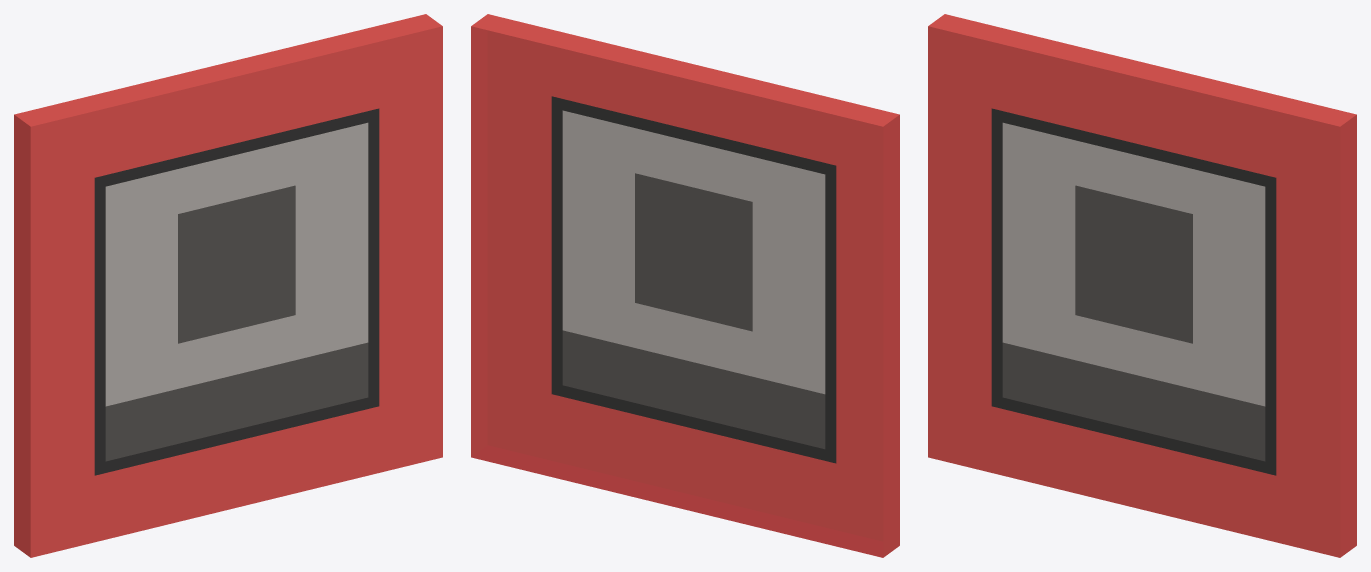
File: WallDeco5.glb
The picture shows the model from 3 angles, left to right: view 1: azimuth 30°, elevation 25°; view 2: azimuth 150°, elevation 25°; view 3: azimuth 330°, elevation 25°; orthographic projection.
Visible parts, largest first — view 1: SI_Prop_WallDeco_05; view 2: SI_Prop_WallDeco_05; view 3: SI_Prop_WallDeco_05.
Boxes of the visible parts, <box> form: SI_Prop_WallDeco_05: <box>14,14,442,557</box>; SI_Prop_WallDeco_05: <box>471,14,899,557</box>; SI_Prop_WallDeco_05: <box>928,14,1356,557</box>.
Bounding box in the file's own units: 0.01 × 0.01 × 0.000702.
Materials: 1 (1 with a texture image).
